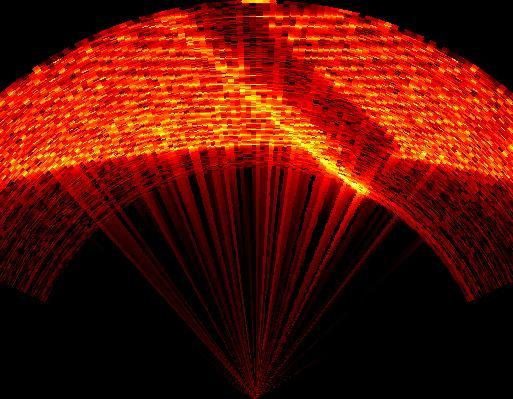pipe: (182, 0, 404, 192)
